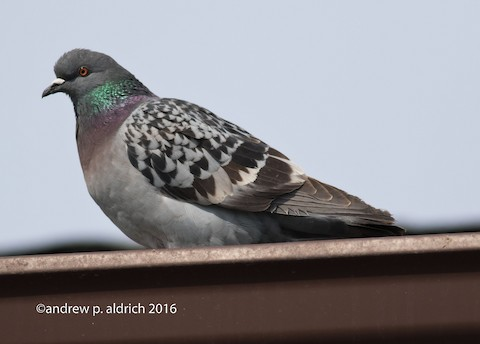pigeon: (40, 43, 414, 252)
